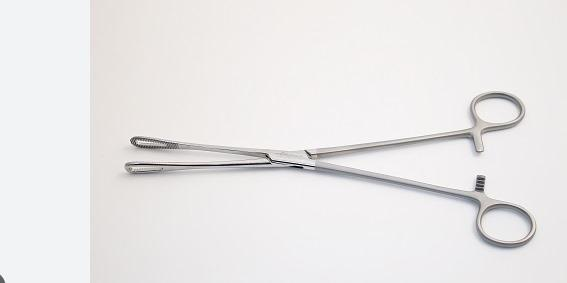Sponge Holding Forceps: (124, 88, 541, 249)
